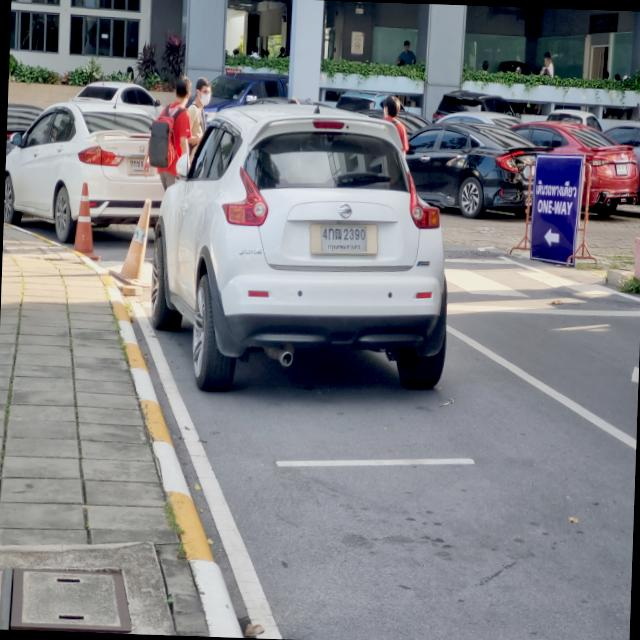license_plate: (307, 220, 378, 258), (126, 153, 148, 172)
